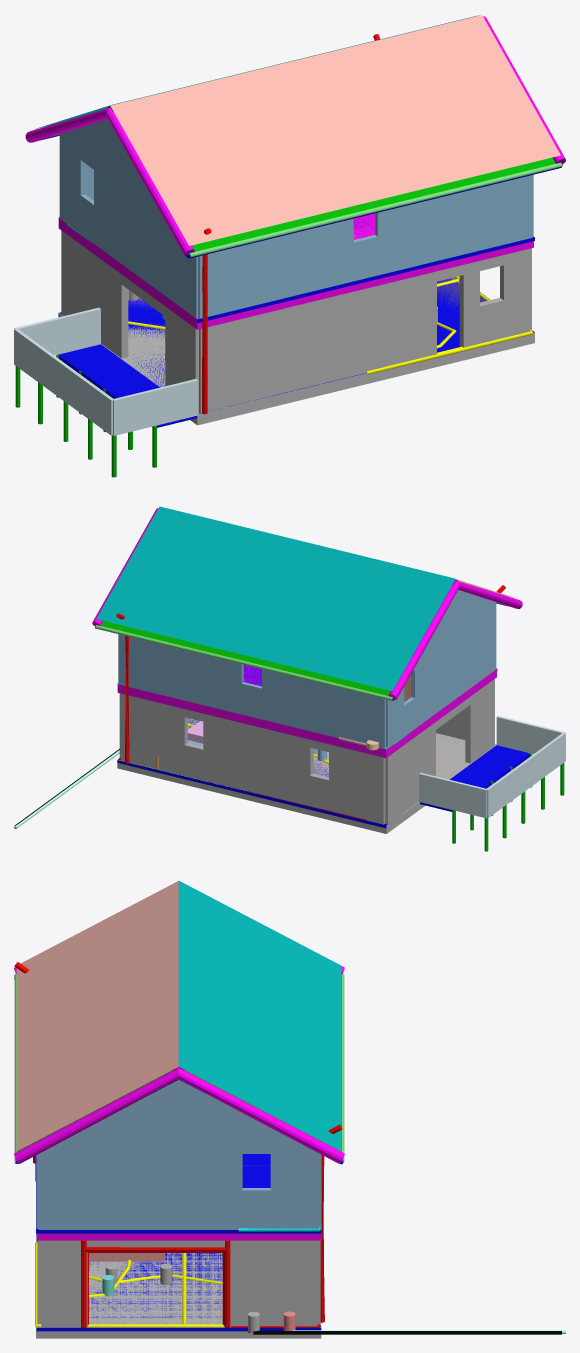
3 views of the same model, one above another, from view 1: azimuth 30°, elevation 25°; view 2: azimuth 150°, elevation 25°; view 3: azimuth 270°, elevation 25° (orthographic). The views are drawn at different scales.
Visible parts, largest first — view 1: Roof Truss, Wall Ext (×2), Wall Masonry (×2), Deck Handrail (×3), Affected Floor Area (×2), Sub Floor Concrete, Mid Floor, Roof Corrugated, Flashing Barge Birds Beak, Rainwater Gutter, Rainwater Downpipe, Cable 1.5mm2 Light (+2 smaller); view 2: Roof Rafter, Wall Masonry (×3), Wall Ext (×2), Deck Handrail (×3), Mid Floor, Sub Floor Concrete, Affected Floor Area, Roof Corrugated, Flashing Barge Birds Beak, Rainwater Gutter, Rainwater Downpipe, Pipe Water PEX 20mm; view 3: Wall Ext, Roof Rafter, Roof Truss, Wall Masonry, Sub Floor Concrete, Affected Floor Area (×2), Flashing Barge Birds Beak, Mid Floor, Column Steel (×2), Cable Mains, Beam Steel, Rainwater Downpipe (+1 smaller).
Part boxes in pixels (x1,y1,x2,y2): Roof Truss: (110,15,560,245); Wall Ext (×2): (59,119,532,318); Wall Masonry (×2): (61,230,530,413); Deck Handrail (×3): (14,307,198,435); Affected Floor Area (×2): (58,217,534,427); Sub Floor Concrete: (58,298,534,425); Mid Floor: (58,213,533,329); Roof Corrugated: (192,157,555,251); Flashing Barge Birds Beak: (25,107,194,256); Rainwater Gutter: (189,162,561,257); Rainwater Downpipe: (202,228,211,414); Cable 1.5mm2 Light: (366,277,533,374); Roof Rafter: (96,506,455,691); Wall Masonry (×3): (121,679,494,824); Wall Ext (×2): (119,590,496,749); Deck Handrail (×3): (419,716,565,818); Mid Floor: (117,665,496,757); Sub Floor Concrete: (117,718,496,833); Affected Floor Area: (117,718,530,828); Roof Corrugated: (100,621,390,695); Flashing Barge Birds Beak: (388,581,522,699); Rainwater Gutter: (95,625,392,700); Rainwater Downpipe: (116,613,129,763); Pipe Water PEX 20mm: (14,750,119,829); Wall Ext: (38,1080,318,1229); Roof Rafter: (178,881,341,1151); Roof Truss: (16,881,178,1150); Wall Masonry: (41,1240,316,1327); Sub Floor Concrete: (36,1233,321,1338); Affected Floor Area (×2): (36,1154,321,1331); Flashing Barge Birds Beak: (14,1068,344,1163); Mid Floor: (37,1165,321,1240); Column Steel (×2): (81,1240,230,1327); Cable Mains: (253,1330,561,1334); Beam Steel: (84,1247,226,1252); Rainwater Downpipe: (320,1124,342,1322).
Bounding box in the file's own units: 13.21 × 8.66 × 13.83.
